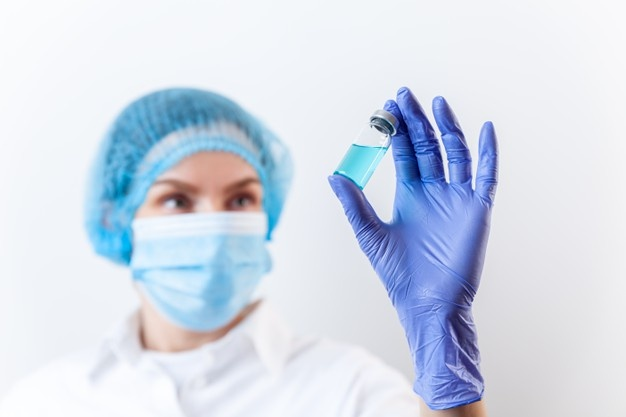Gloves: (329, 88, 525, 405)
with_mask: (127, 177, 273, 331)
